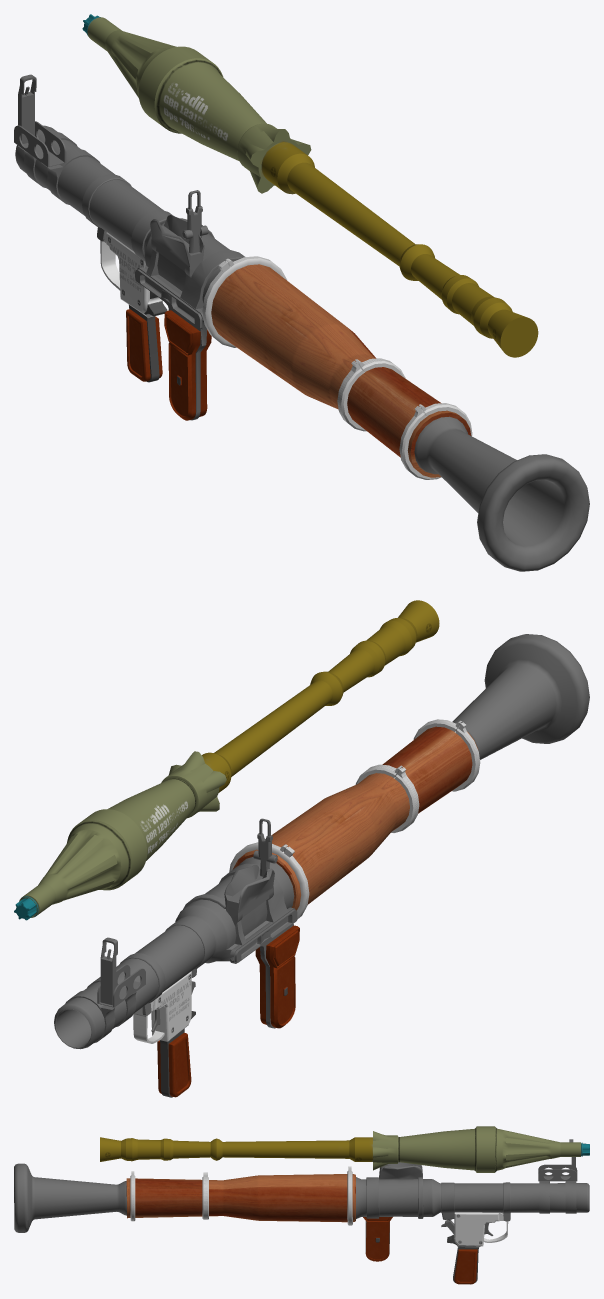
File: rpg-7.glb
3 renders of one model, top to bottom at view 1: azimuth 30°, elevation 25°; view 2: azimuth 150°, elevation 25°; view 3: azimuth 270°, elevation 25°, orthographic. The views are drawn at different scales.
Visible parts, largest first — view 1: pCube12, pCylinder8; view 2: pCube12, pCylinder8; view 3: pCube12, pCylinder8.
Boxes of the visible parts, box(x1,y1,x2,y2) form: pCube12: box(14, 74, 589, 571); pCylinder8: box(82, 14, 538, 357); pCube12: box(54, 634, 589, 1097); pCylinder8: box(14, 600, 439, 920); pCube12: box(14, 1139, 589, 1284); pCylinder8: box(100, 1126, 589, 1172).
Size of the model in its own units: 0.2131 by 0.4223 by 1.3.
6 materials, 6 textured.
